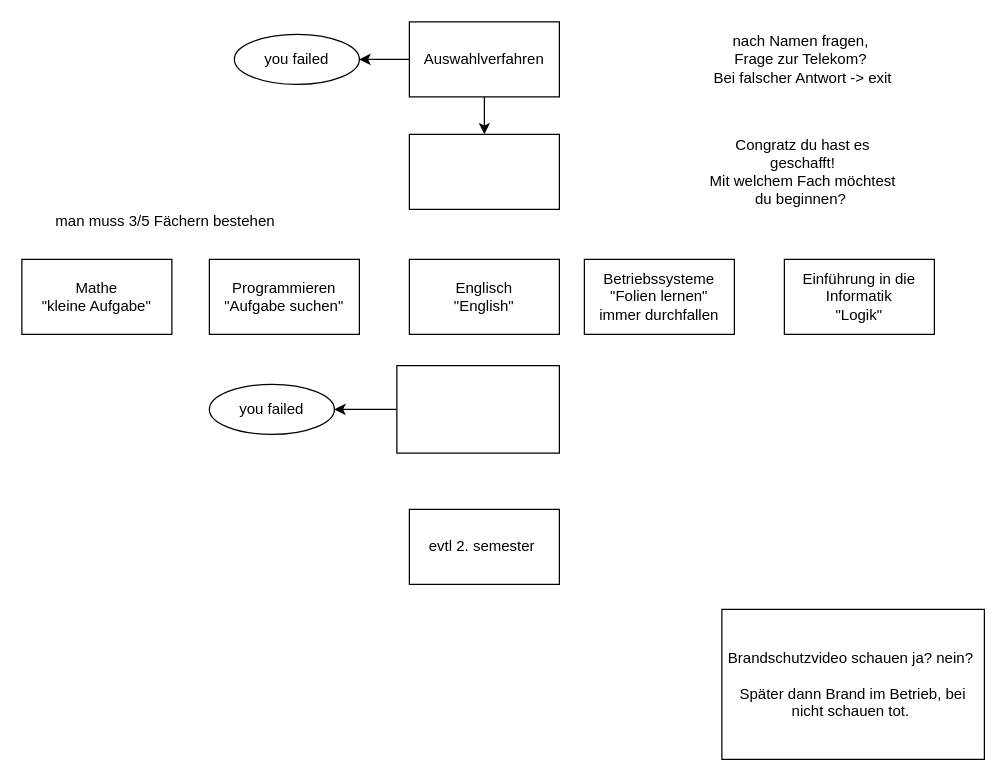
This 1006x781 diagram has some shape labels left out. Each missing label, with the box of its shape:
Mail vom Chef "Überweise 10k an Partner" -> ist natürlich phishing: (396, 364, 559, 453)
Start 1. Semester: (408, 133, 559, 209)
